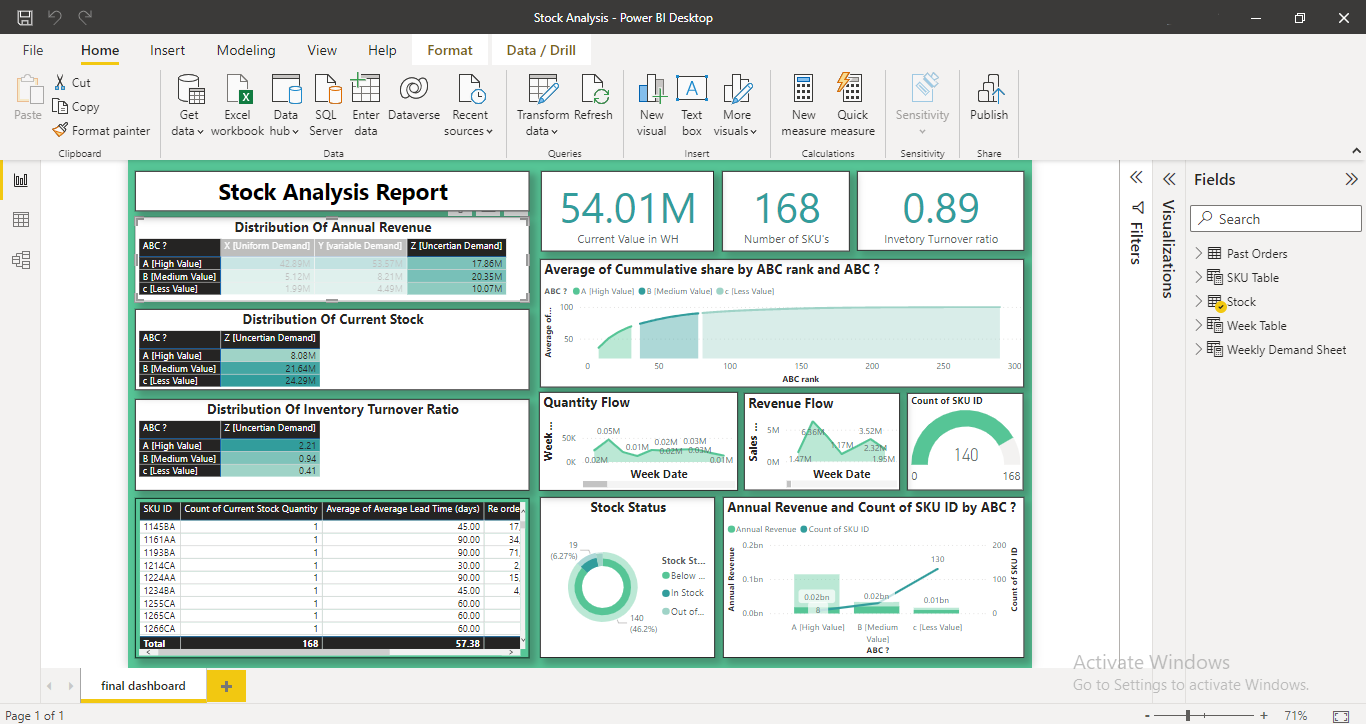

Layout of this report page (visuals, bound fields, positions):
{"tool":"powerbi","page":{"name":"final dashboard ","canvas":[1280,720],"ordinal":0},"visuals":[{"type":"areaChart","fields":{"Category":["Stock.ABC rank"],"Y":["Avg(Stock.Cummulative share)"],"Series":["Stock.ABC ?"]},"box":[583.7,139.9,686.2,182.1],"z":0},{"type":"pivotTable","title":"Distribution Of Annual Revenue","fields":{"Rows":["Stock.ABC ?"],"Columns":["Stock.XYZ ?"],"Values":["Sum(Stock.Annual Revenue)"]},"box":[9.5,80.9,559.3,120.2],"z":1000},{"type":"pivotTable","title":"Distribution Of Inventory Turnover Ratio","fields":{"Rows":["Stock.ABC ?"],"Columns":["Stock.XYZ ?"],"Values":["Stock.Invetory Turnover ratio"]},"box":[9.5,339.2,559.3,129.7],"z":2000},{"type":"pivotTable","title":"Distribution Of Current Stock","fields":{"Rows":["Stock.ABC ?"],"Columns":["Stock.XYZ ?"],"Values":["Sum(Stock.Value in WH)"]},"box":[9.5,211.8,559.3,115.4],"z":3000},{"type":"card","fields":{"Values":["Stock.Invetory Turnover ratio"]},"box":[1033,15.5,236.8,113.1],"z":4000},{"type":"card","fields":{"Values":["CountNonNull(Stock.SKU ID)"]},"box":[842.6,15.5,180.9,114.2],"z":5000},{"type":"card","fields":{"Values":["Sum(Stock.Value in WH)"]},"box":[585.5,15.5,245.2,114.2],"z":6000},{"type":"tableEx","fields":{"Values":["Stock.SKU ID","Stock.Current Stock Quantity","Stock.Average Lead Time (days)","Stock.Re order point","Stock.Safety Stock","Stock.Stock Status"]},"box":[9.5,478.4,559.3,227.3],"z":7000},{"type":"gauge","title":"Count of SKU ID","fields":{"Y":["Stock.SKUs to Reorder"],"MaxValue":["Count(Stock.SKU ID)"]},"box":[1104.4,330.8,165.4,138],"z":8000},{"type":"donutChart","title":"Stock Status","fields":{"Y":["CountNonNull(Stock.SKU ID)"],"Category":["Stock.Stock Status"]},"box":[583.7,477.6,248.4,227.9],"z":9000},{"type":"areaChart","title":"Quantity Flow","fields":{"Category":["Weekly Demand Sheet.Week Date"],"Y":["Sum(Weekly Demand Sheet.Weeks Demand)"]},"box":[583.1,328.5,282,140.4],"z":10000},{"type":"areaChart","title":"Revenue Flow","fields":{"Y":["Sum(Weekly Demand Sheet.Sales Amount)"],"Category":["Weekly Demand Sheet.Week Date"]},"box":[873.5,329.7,221.4,138],"z":11000},{"type":"lineStackedColumnComboChart","fields":{"Category":["Stock.ABC ?"],"Y":["Sum(Stock.Annual Revenue)"],"Y2":["CountNonNull(Stock.SKU ID)"]},"box":[843,477.6,426.9,227.9],"z":12000},{"type":"textbox","box":[9.5,15.5,559.3,57.1],"z":13000}]}

Visuals, with their boxes on the page's 1280x720 design canvas (x1, y1, x2, y2). These are canvas units, not pixel positions in the 1366x724 screenshot, which may show the page scaled, cropped or inside an application window:
areaChart - Stock.ABC rank x Avg(Stock.Cummulative share): box(584, 140, 1270, 322)
"Distribution Of Annual Revenue" pivotTable: box(10, 81, 569, 201)
"Distribution Of Inventory Turnover Ratio" pivotTable: box(10, 339, 569, 469)
"Distribution Of Current Stock" pivotTable: box(10, 212, 569, 327)
card - Stock.Invetory Turnover ratio: box(1033, 16, 1270, 129)
card - CountNonNull(Stock.SKU ID): box(843, 16, 1024, 130)
card - Sum(Stock.Value in WH): box(586, 16, 831, 130)
tableEx - Stock.SKU ID x Stock.Current Stock Quantity: box(10, 478, 569, 706)
"Count of SKU ID" gauge: box(1104, 331, 1270, 469)
"Stock Status" donutChart: box(584, 478, 832, 706)
"Quantity Flow" areaChart: box(583, 328, 865, 469)
"Revenue Flow" areaChart: box(874, 330, 1095, 468)
lineStackedColumnComboChart - Stock.ABC ? x Sum(Stock.Annual Revenue): box(843, 478, 1270, 706)
textbox: box(10, 16, 569, 73)
